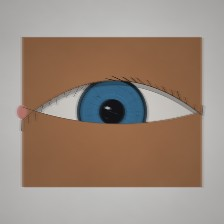hemorrhage_spot: (83, 105, 145, 154)
